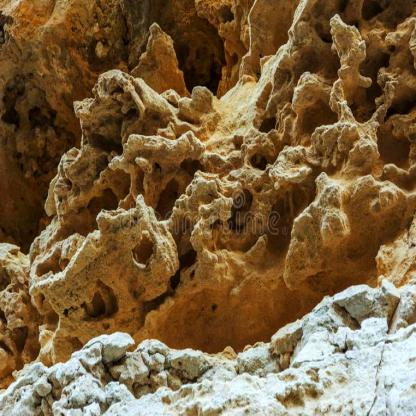Sedimentary_Limestone: (30, 192, 181, 319), (266, 162, 415, 289), (69, 64, 175, 142)
